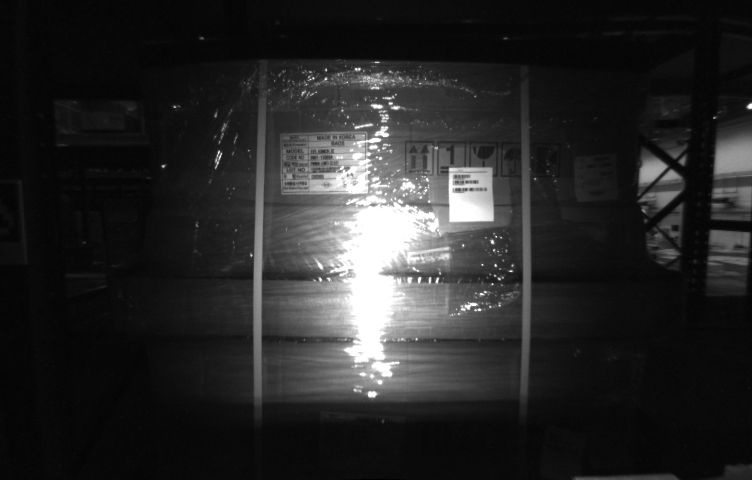True Barcode: (573, 154, 619, 200)
